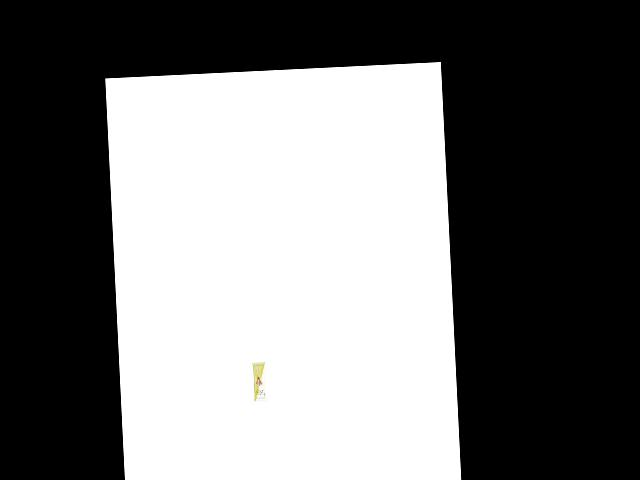chocolate: (248, 359, 270, 404)
